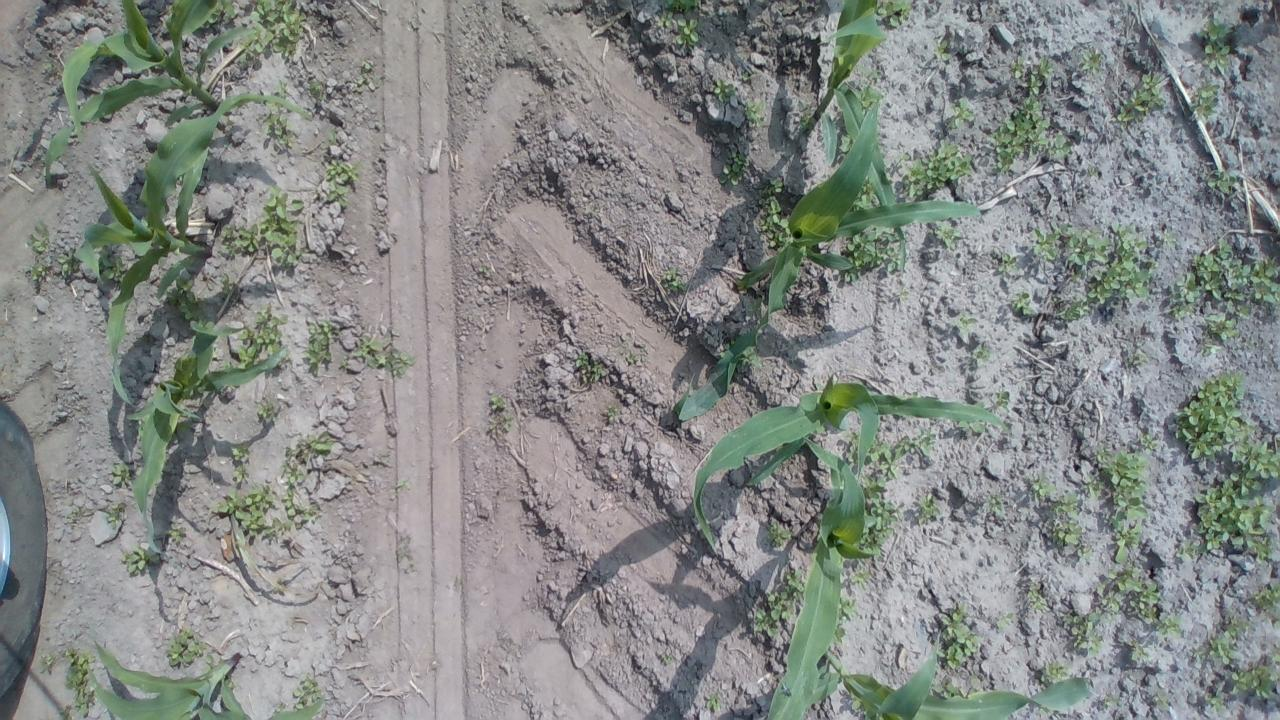Maize: (76, 91, 315, 408), (736, 88, 986, 334), (691, 374, 1012, 556), (38, 2, 262, 186), (120, 320, 290, 555), (745, 424, 874, 718), (823, 628, 1095, 720), (818, 1, 908, 270), (85, 641, 255, 719)
Weeds: (843, 431, 938, 590), (1166, 238, 1280, 356), (1030, 223, 1166, 321), (1169, 375, 1280, 486), (988, 56, 1067, 169), (215, 183, 301, 271), (1187, 483, 1278, 566), (1098, 569, 1180, 641), (215, 484, 322, 538), (902, 143, 975, 206), (742, 566, 808, 635), (1089, 447, 1148, 516), (1212, 654, 1280, 706), (839, 233, 908, 284), (244, 1, 304, 59), (342, 334, 416, 381), (1048, 498, 1095, 568), (25, 222, 76, 286), (1109, 70, 1167, 126), (930, 605, 981, 666), (283, 438, 337, 490), (236, 311, 281, 372), (59, 646, 96, 720), (755, 177, 790, 252), (1196, 622, 1246, 672), (654, 1, 703, 49), (1199, 12, 1235, 70), (164, 268, 199, 318), (318, 162, 358, 204), (259, 111, 296, 152), (306, 320, 333, 375), (1247, 580, 1280, 622), (1111, 520, 1154, 552), (841, 176, 878, 212), (165, 630, 198, 668), (851, 66, 882, 106), (95, 243, 124, 285), (1058, 612, 1095, 644), (1188, 82, 1220, 116), (572, 352, 604, 385), (914, 494, 943, 530), (290, 678, 322, 710), (486, 396, 514, 430), (952, 97, 978, 132), (1206, 165, 1234, 194), (875, 2, 910, 24), (228, 448, 248, 486), (1039, 665, 1071, 688), (722, 151, 745, 183), (1026, 590, 1052, 618), (120, 548, 146, 576), (356, 60, 376, 96), (104, 500, 127, 531), (110, 459, 132, 491), (769, 518, 791, 549), (715, 78, 741, 104), (255, 399, 279, 427), (662, 266, 684, 296), (741, 98, 763, 126), (934, 226, 964, 246), (988, 490, 1009, 518), (936, 681, 980, 694), (162, 522, 184, 548), (1125, 641, 1149, 664), (606, 401, 624, 428), (213, 2, 237, 22), (1032, 477, 1052, 500), (990, 613, 1014, 632), (1012, 293, 1029, 317), (998, 255, 1017, 275), (66, 501, 80, 527), (957, 314, 976, 332), (1078, 52, 1096, 70), (936, 38, 950, 61), (40, 651, 54, 673), (306, 80, 322, 98), (628, 350, 646, 366), (1132, 350, 1150, 366), (975, 347, 993, 362), (997, 390, 1012, 407), (394, 480, 411, 490)
